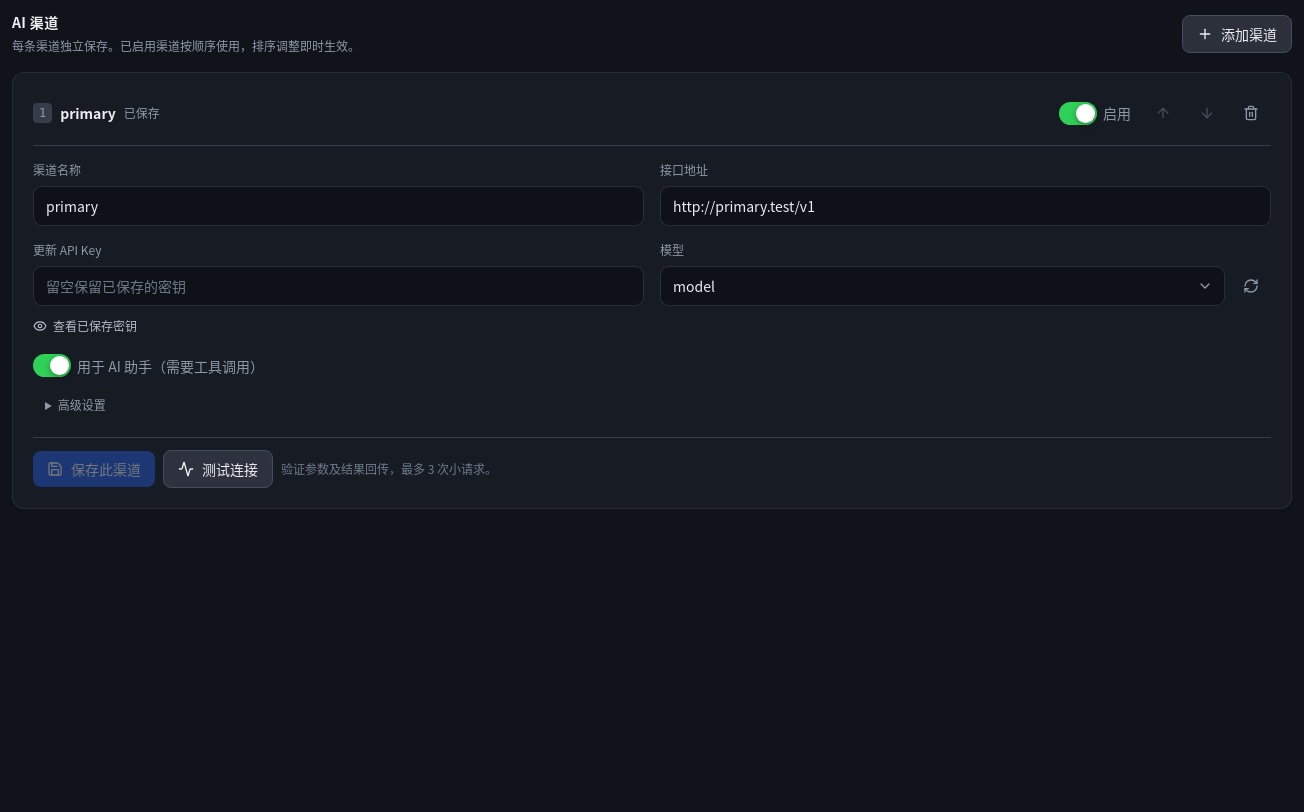
Test: AI 渠道设置 › 保存并测试先保存当前编辑值，失败时不测试旧配置
Replace the text in the field labelled "接口地址" with "http://changed.test/v1" at (966, 206), box [660,186,1271,226]
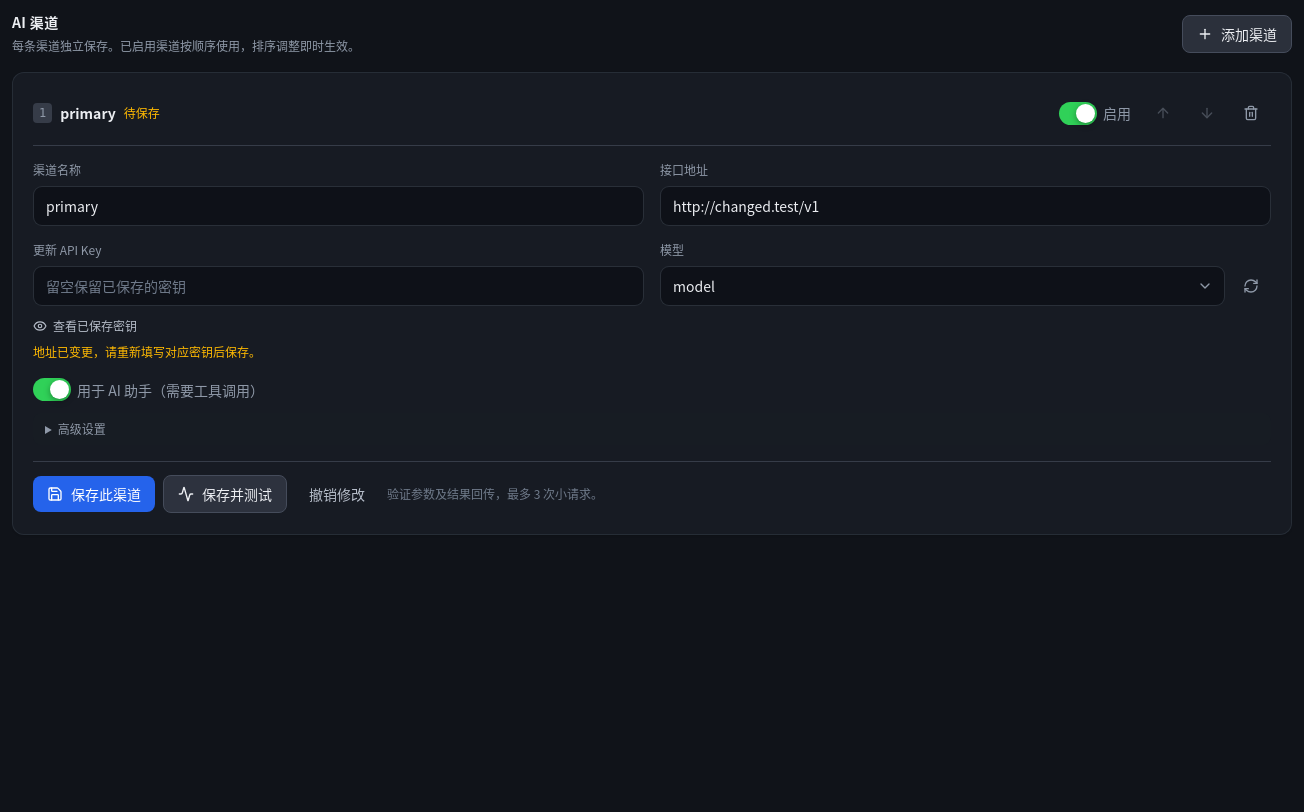
Click the button "保存并测试" at (225, 494), box [163,475,287,513]
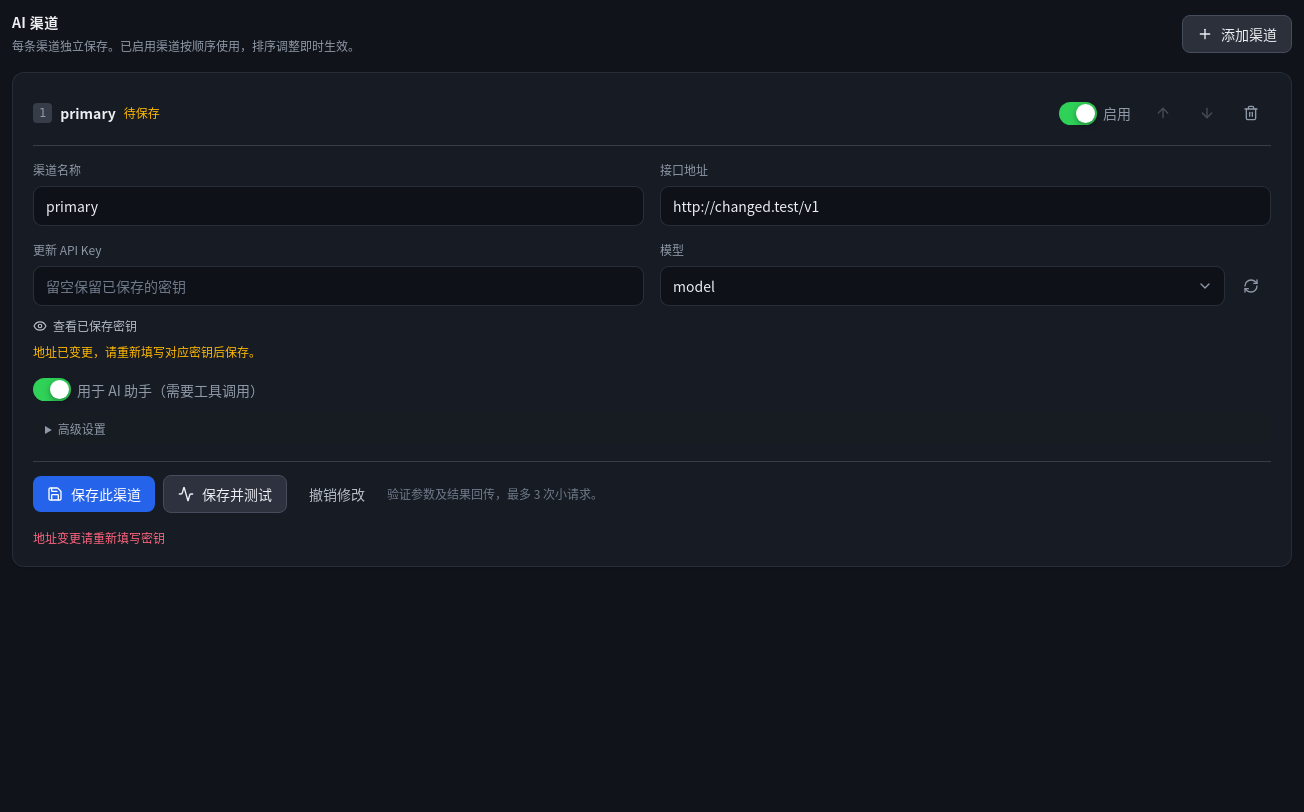
Expected: the text "地址变更请重新填写密钥" is shown, [33,529,165,546]
Type "new-test-key" into the password field labelled "更新 API Key" at (338, 286), box [33,266,644,306]
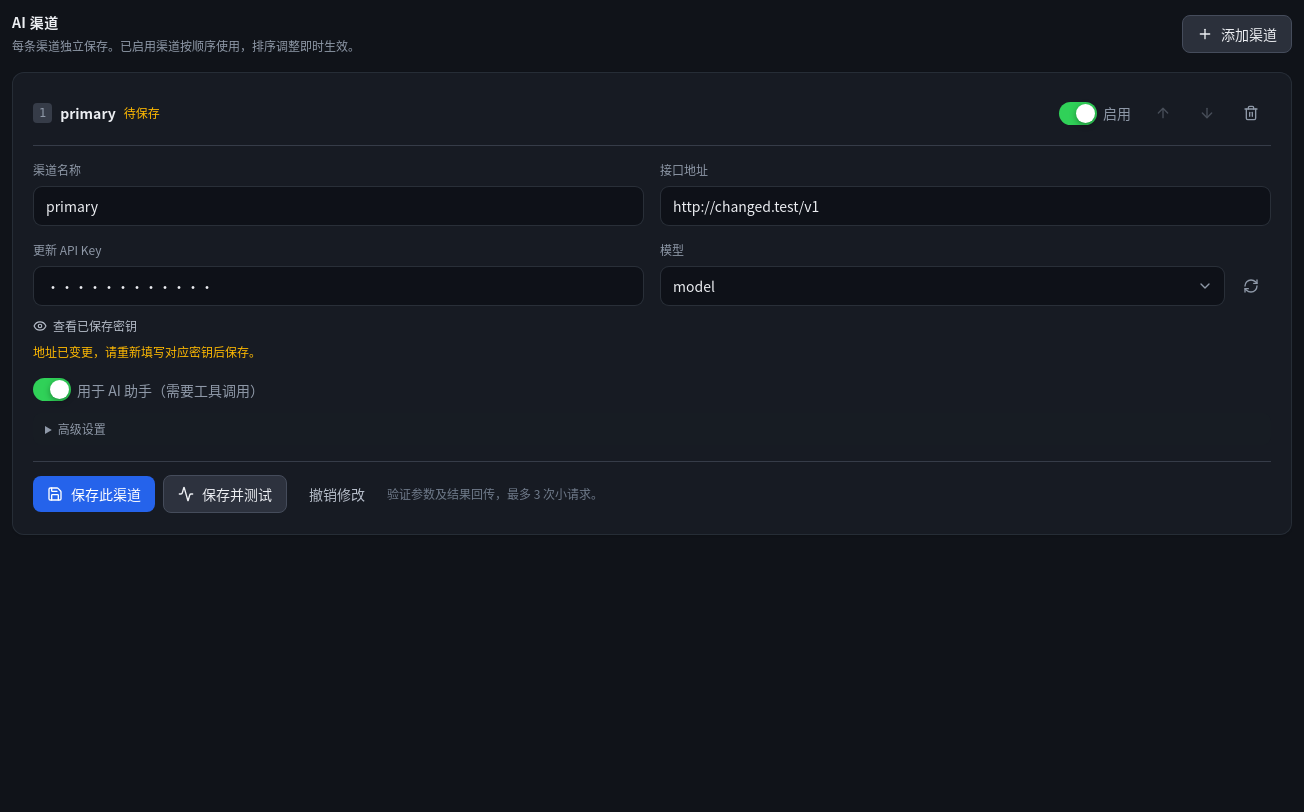
Click the button "保存并测试" at (225, 494), box [163,475,287,513]
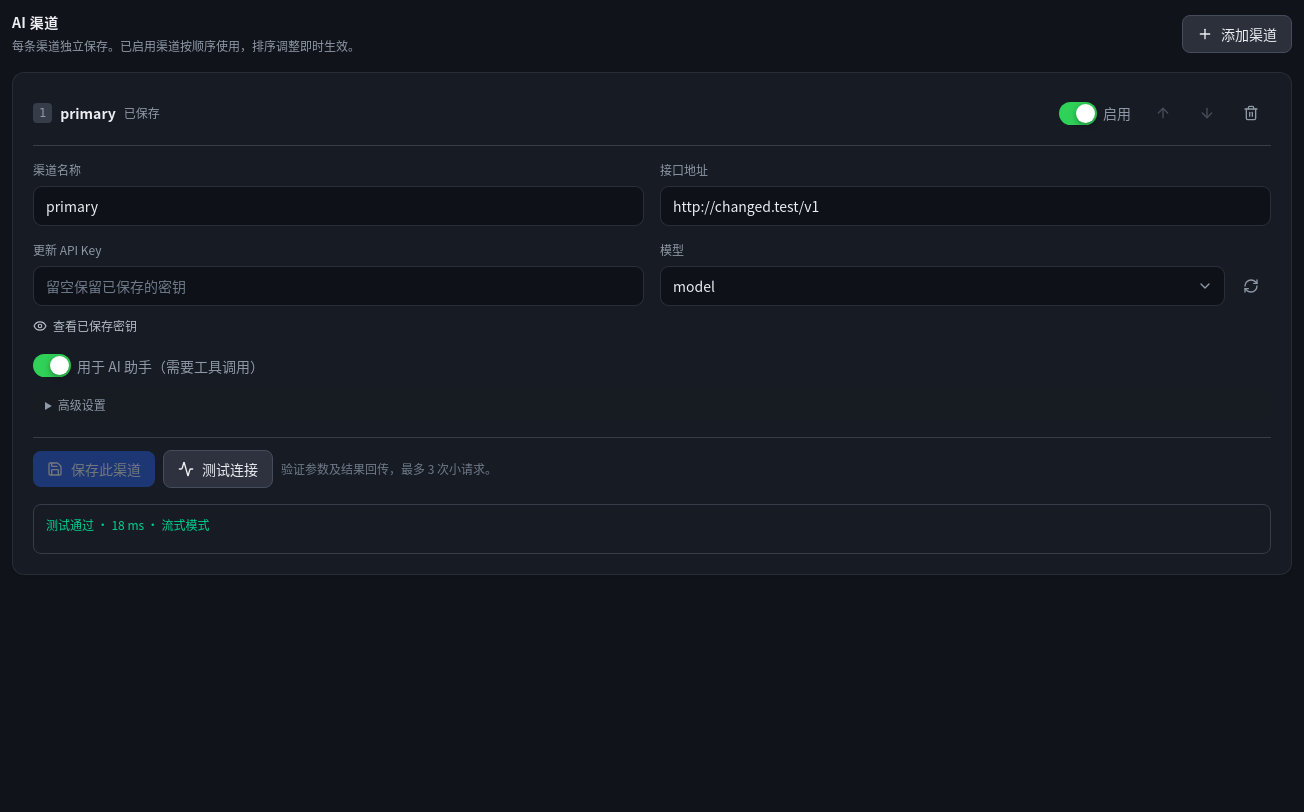
Expected: the text "18 ms" is shown, [46,516,210,533]
